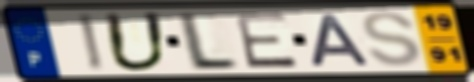A: (306, 12, 375, 68)
E: (232, 11, 301, 70)
I: (73, 11, 107, 73)
L: (178, 11, 241, 73)
S: (359, 10, 424, 69)
U: (101, 11, 172, 74)
